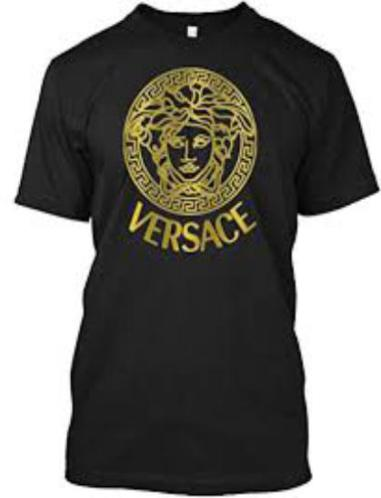VERSACE: (116, 68, 265, 261)
